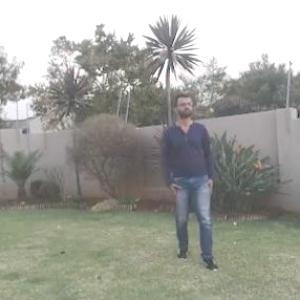follow: (160, 83, 224, 279)
